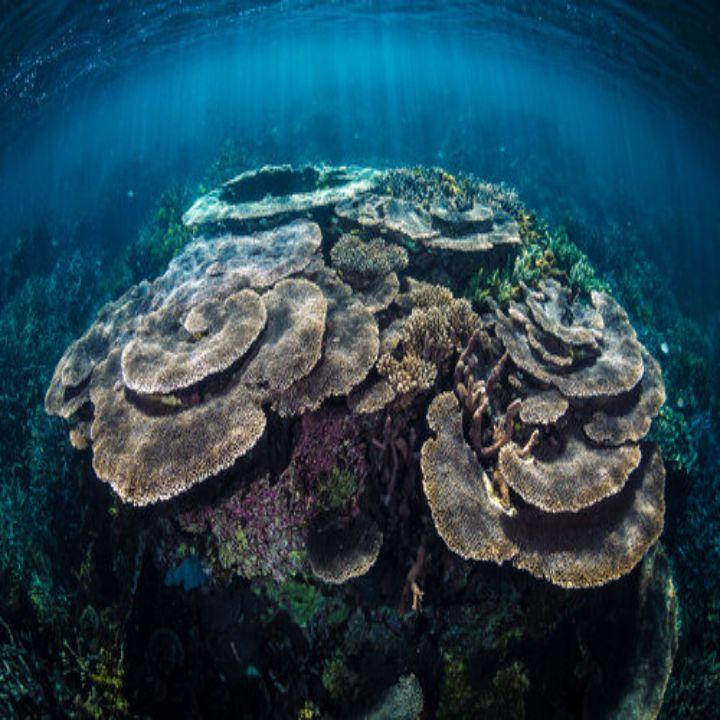Healthy Coral: (61, 153, 695, 615)
